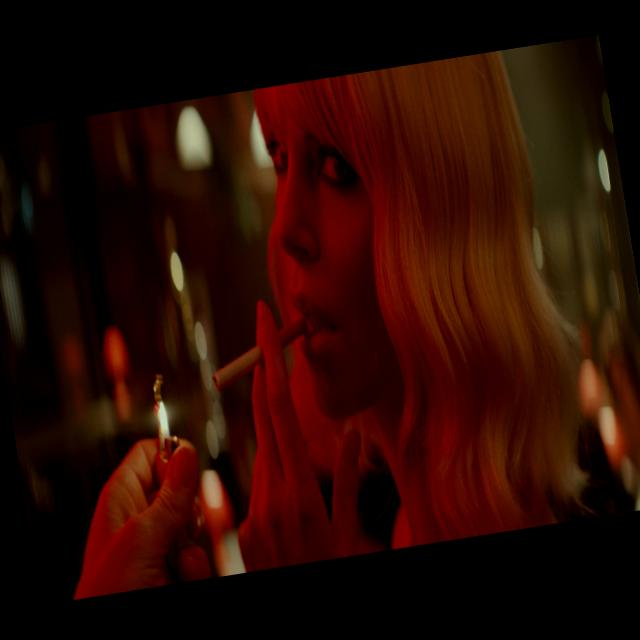cigarette: (194, 302, 322, 408)
